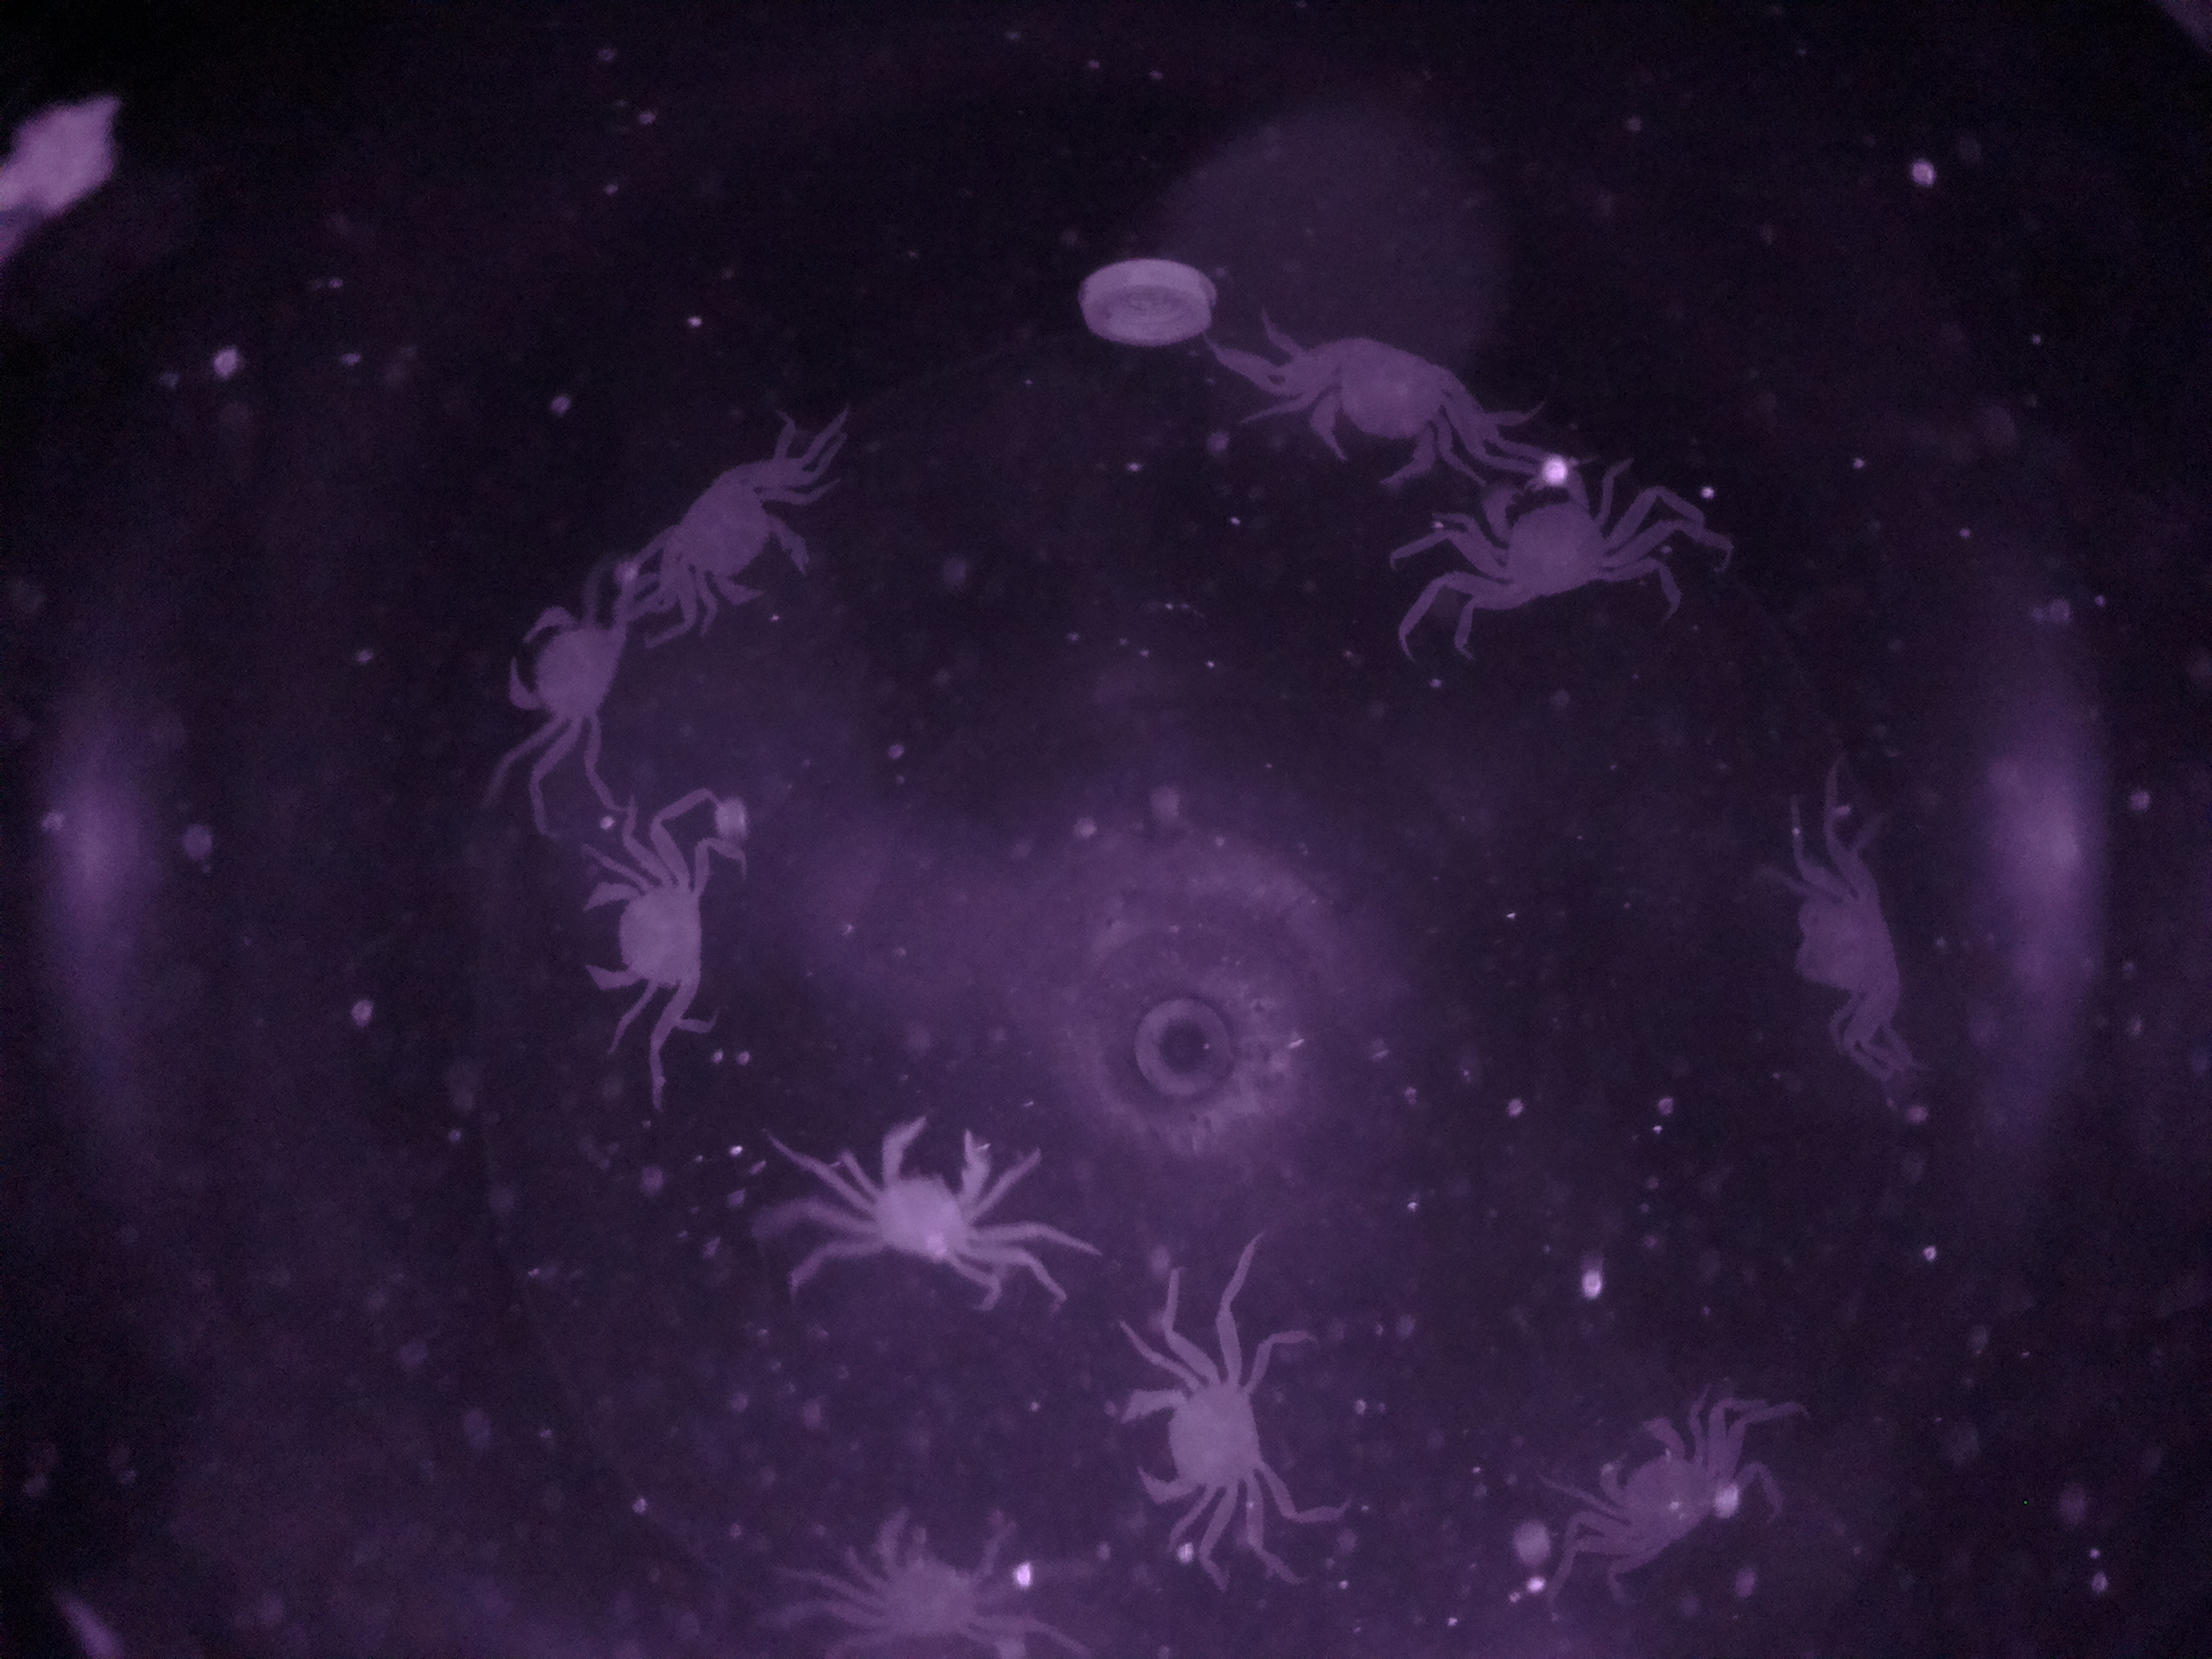Crab: (1263, 326, 1505, 498), (1467, 448, 1669, 641), (826, 1103, 1029, 1286), (1108, 1351, 1294, 1532), (1775, 843, 1939, 1044), (575, 854, 745, 1040), (641, 446, 810, 620), (1575, 1401, 1735, 1577), (481, 589, 643, 751)
